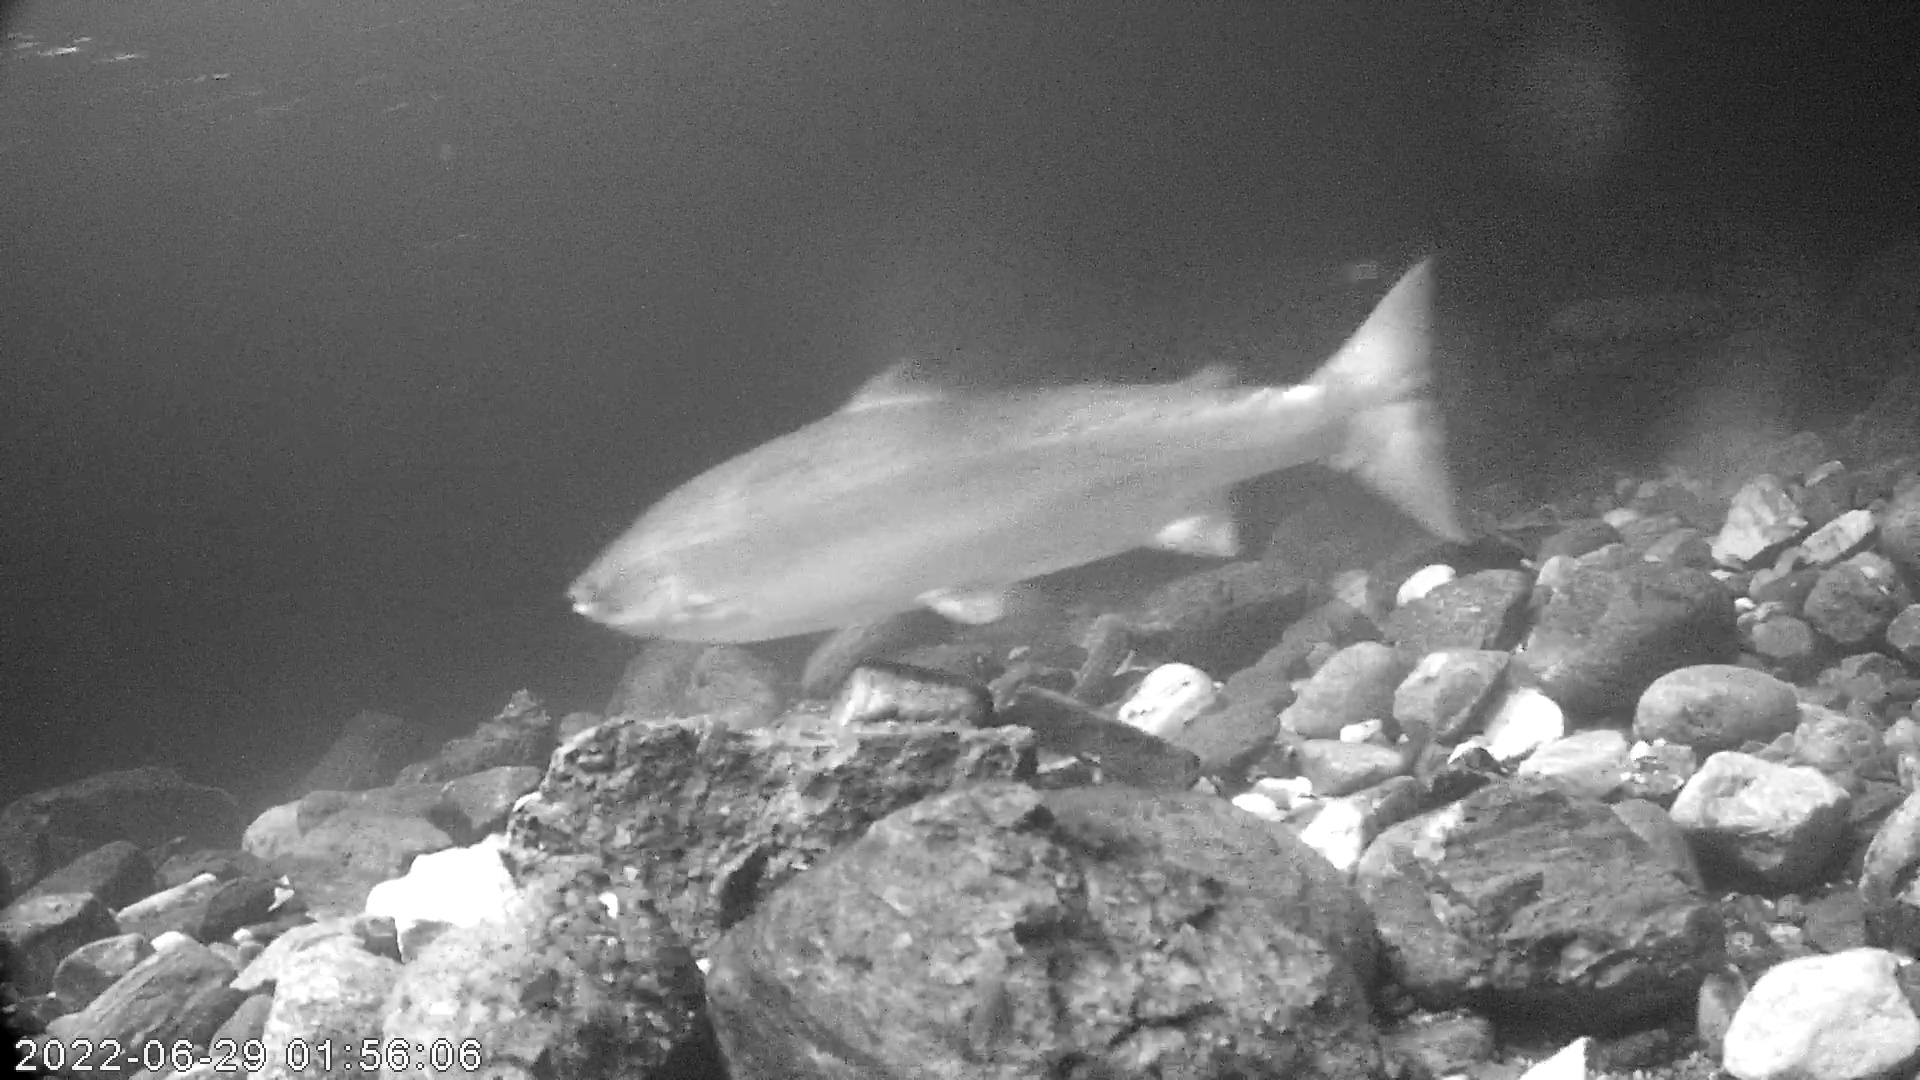salmon: (562, 229, 1449, 694)
